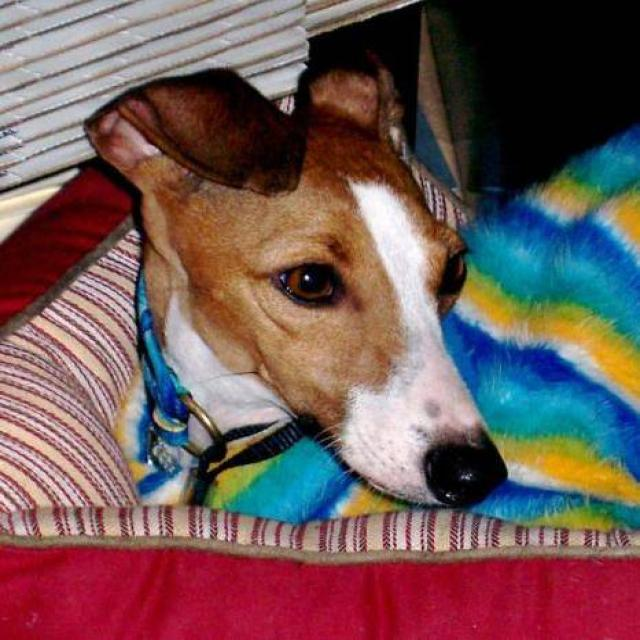cat: (48, 12, 565, 568)
